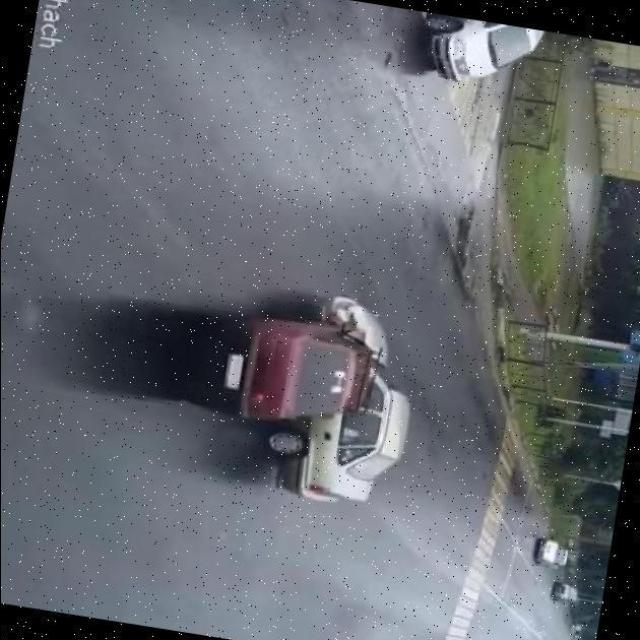accident: (275, 284, 410, 481)
